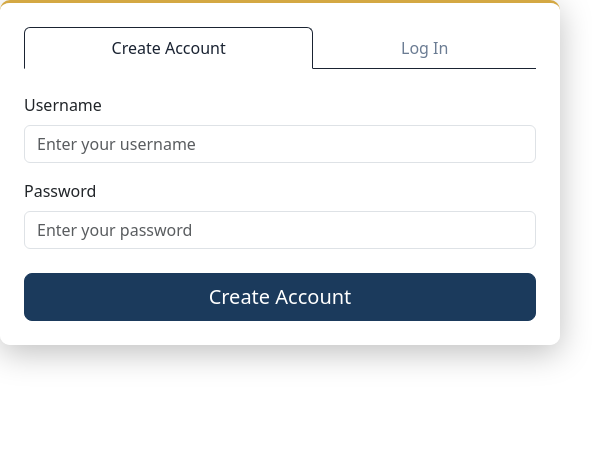
Test: AccountBox › clears an existing error when switching tabs
The width and height of the screenshot is (592, 459).
What coordinates should you click on to do the following:
click the button "Create Account"
I would click on:
 (280, 297)
Its box is [24,273,536,321].
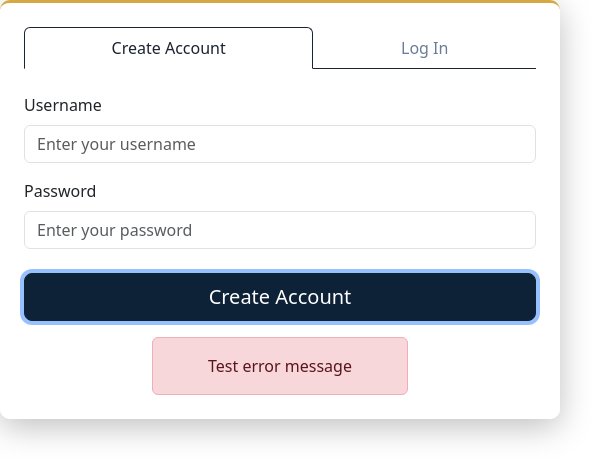
What coordinates should you click on to do the following:
click the tab "Log In"
I would click on:
 (425, 48)
Its box is [313,27,536,69].
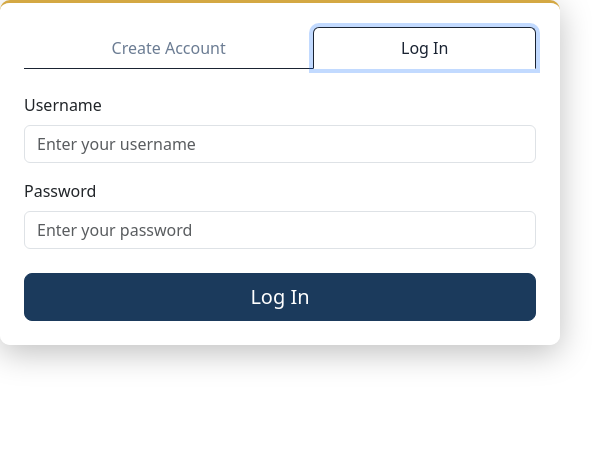
Now the message "Test error message" is gone
